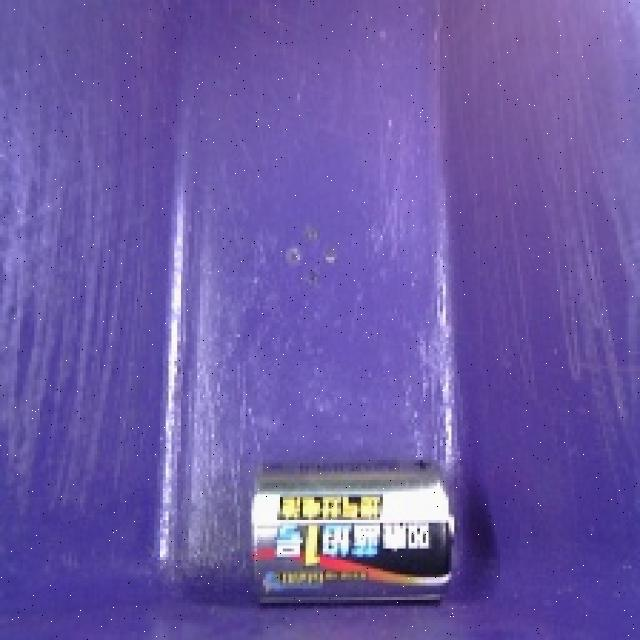battery: (238, 449, 469, 620)
